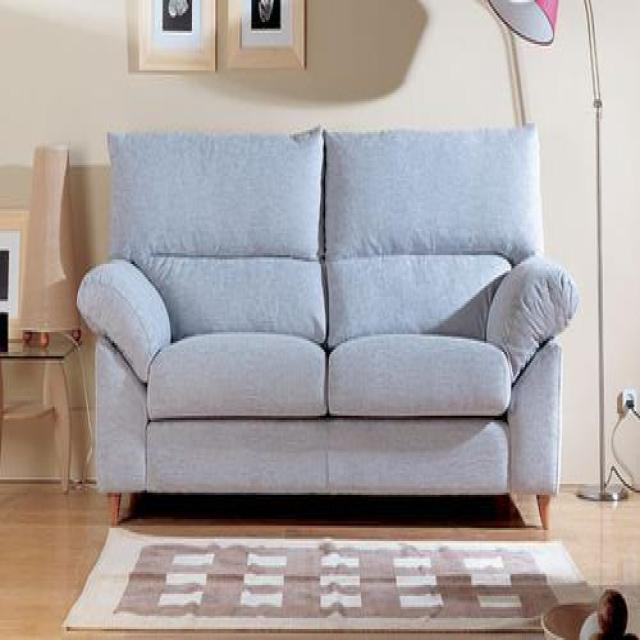sofa: (77, 122, 579, 536)
